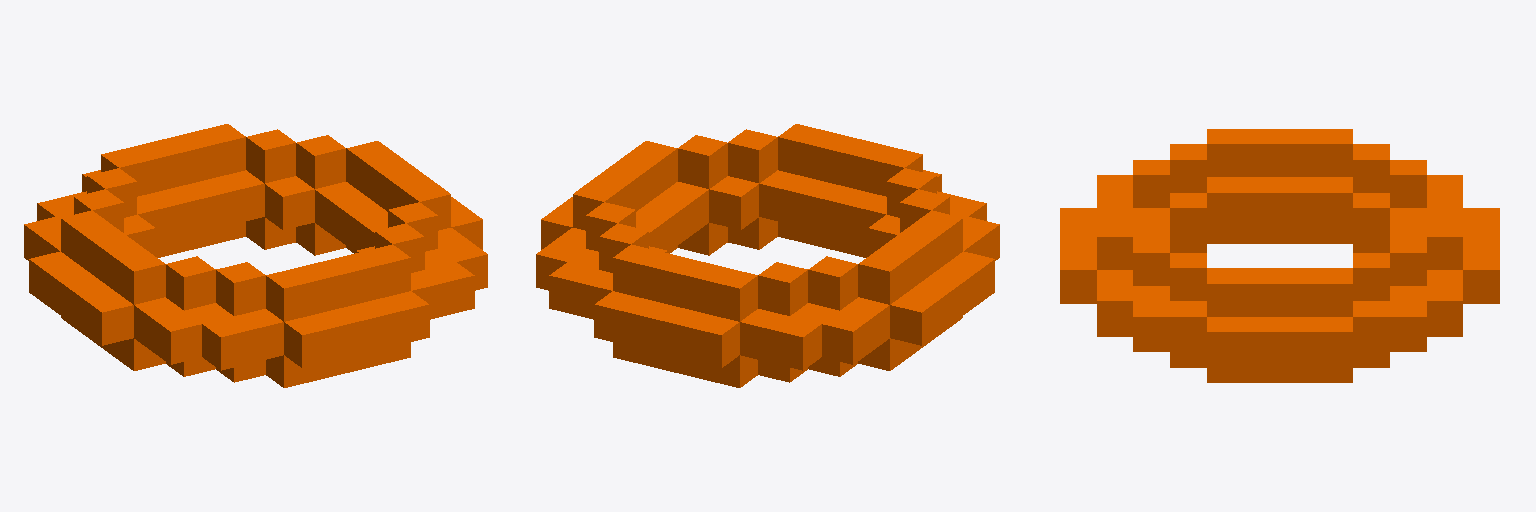
3 views of the same model, side by side, from view 1: azimuth 30°, elevation 25°; view 2: azimuth 150°, elevation 25°; view 3: azimuth 270°, elevation 25° (orthographic).
Visible parts, largest first — view 1: object 1; view 2: object 1; view 3: object 1.
Part boxes in pixels (left/top/right/bottom): object 1: left=24, top=124, right=487, bottom=387; object 1: left=536, top=124, right=999, bottom=387; object 1: left=1060, top=129, right=1499, bottom=382.
Size of the model in its own units: 1.2 by 0.3 by 1.2.
1 materials, 1 textured.